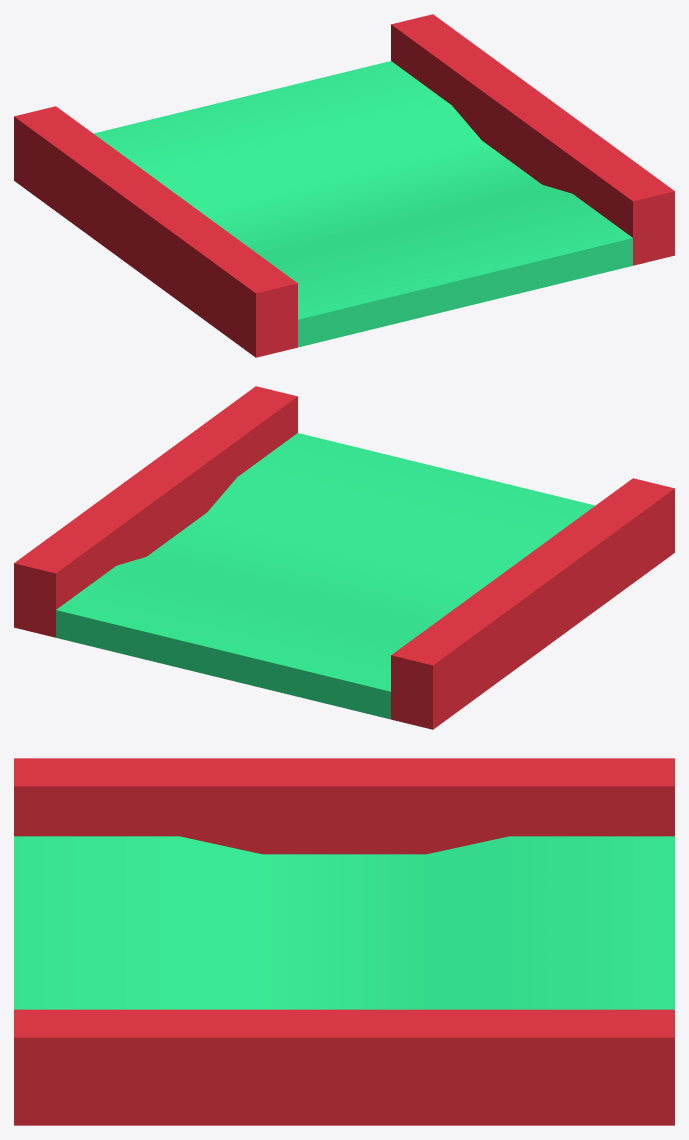
Rendered from crest.fbx.
3 views of the same model, one above another, from view 1: azimuth 30°, elevation 25°; view 2: azimuth 150°, elevation 25°; view 3: azimuth 270°, elevation 25° (orthographic). The views are drawn at different scales.
Visible parts, largest first — view 1: crest; view 2: crest; view 3: crest.
Part boxes in pixels (x1,y1,x2,y2): crest: (14,14,674,357); crest: (14,386,674,729); crest: (14,758,674,1125).
Bounding box in the file's own units: 10 × 1.47 × 10.
